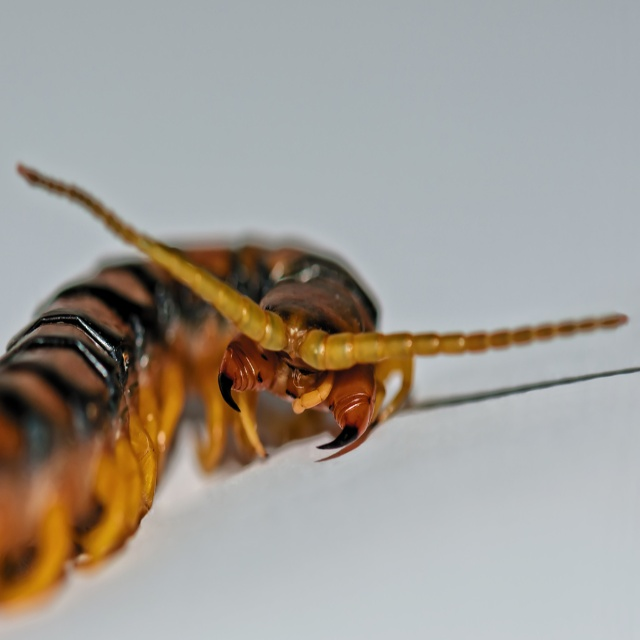Centipede: (0, 164, 629, 618)
